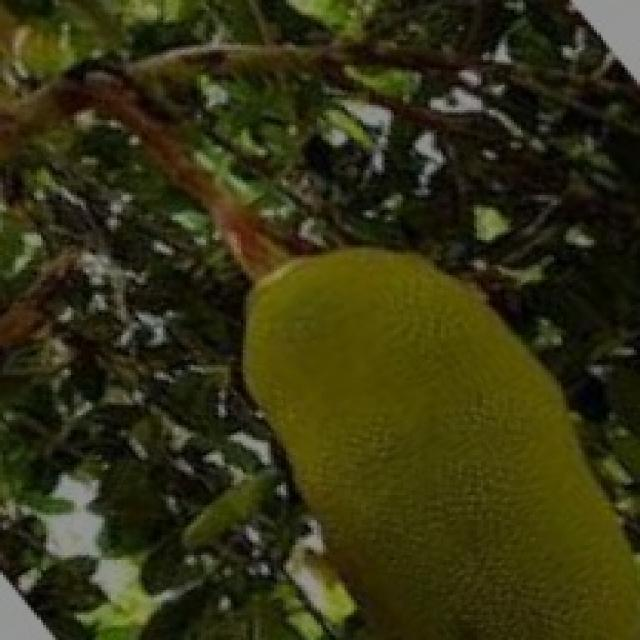Fruit: (218, 217, 639, 640)
